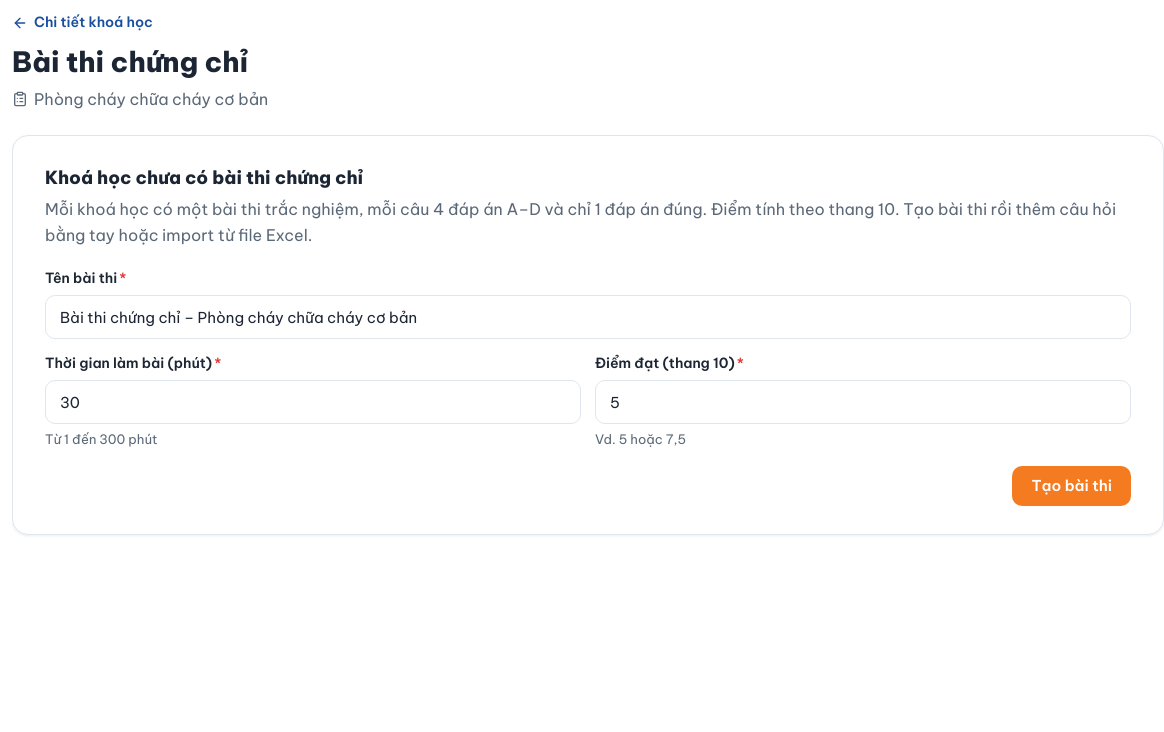
Scenario: ExamPage (bài thi chứng chỉ) › rejects a pass score above 10
The image size is (1164, 732).
Replace the text in the field labelled "Điểm đạt (thang 10)*" with "11" at (863, 402), box [595, 380, 1131, 424]
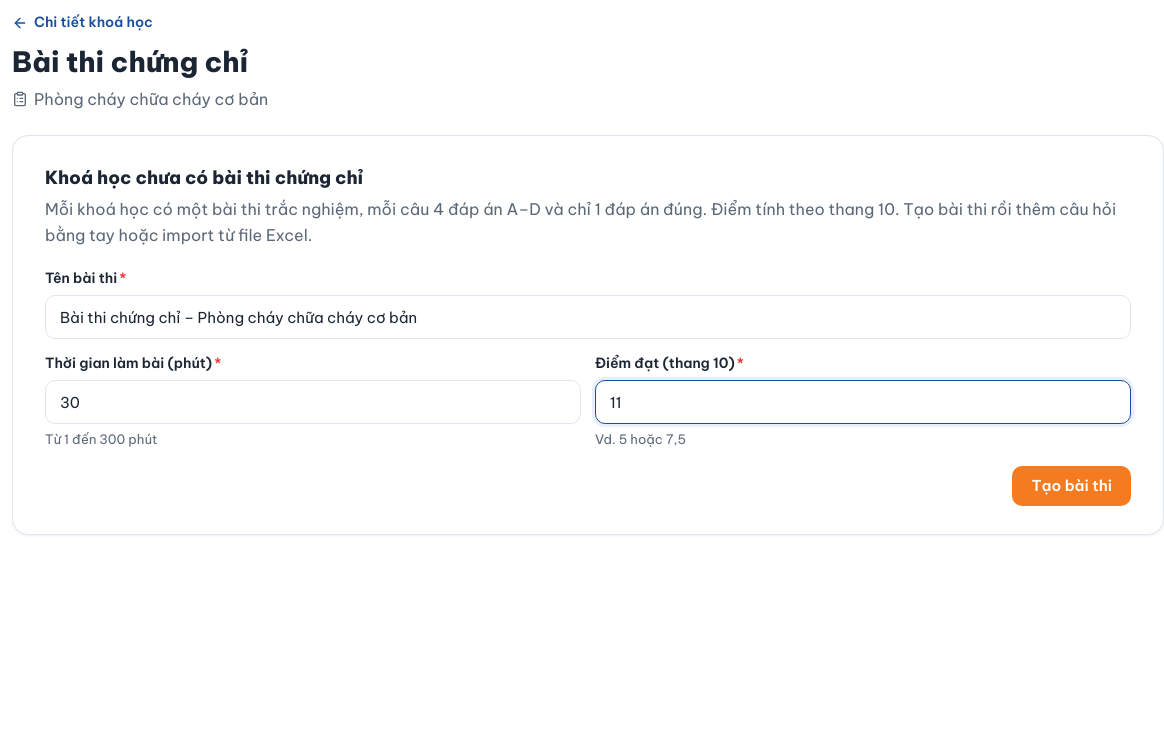
Click the button "Tạo bài thi" at (1072, 486), box [1012, 466, 1131, 506]
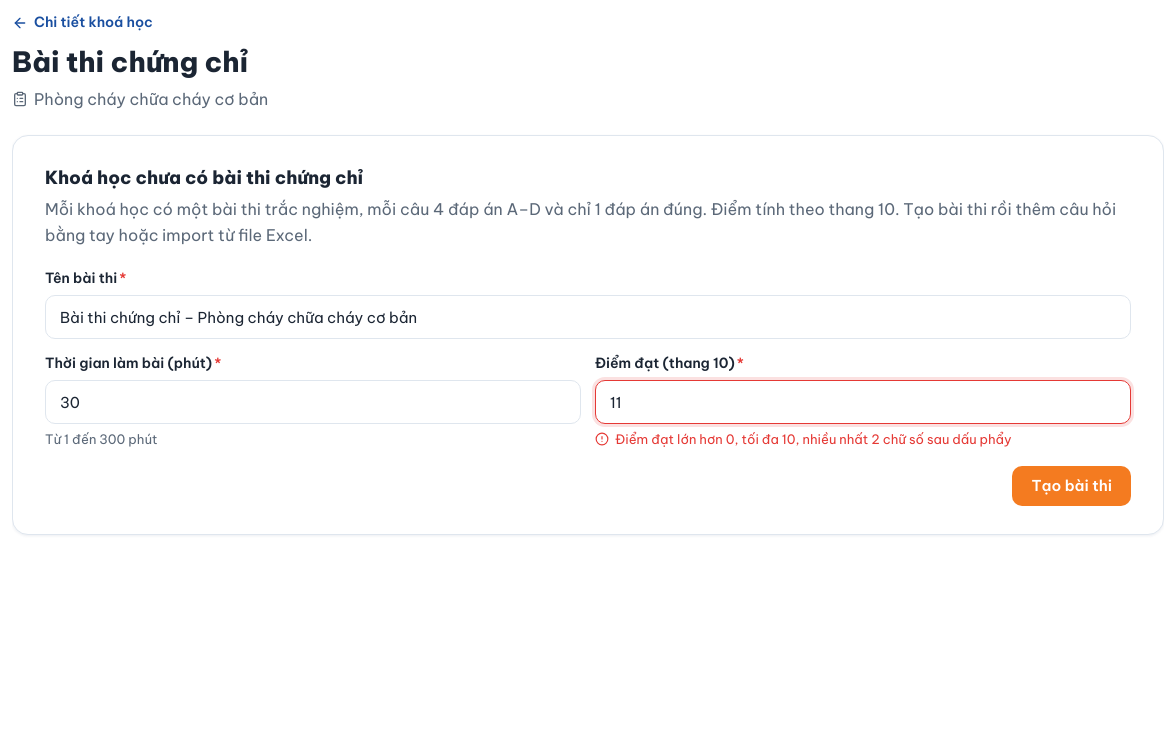
Check: the text "Điểm đạt lớn hơn 0, tối đa 10" is shown, box [615, 431, 1012, 447]
